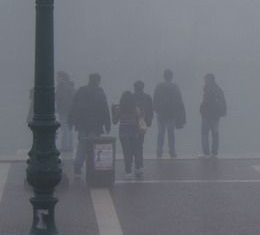person: (68, 72, 112, 183), (153, 68, 186, 161), (111, 90, 143, 180), (198, 70, 229, 160), (129, 78, 155, 178), (55, 69, 78, 157)
